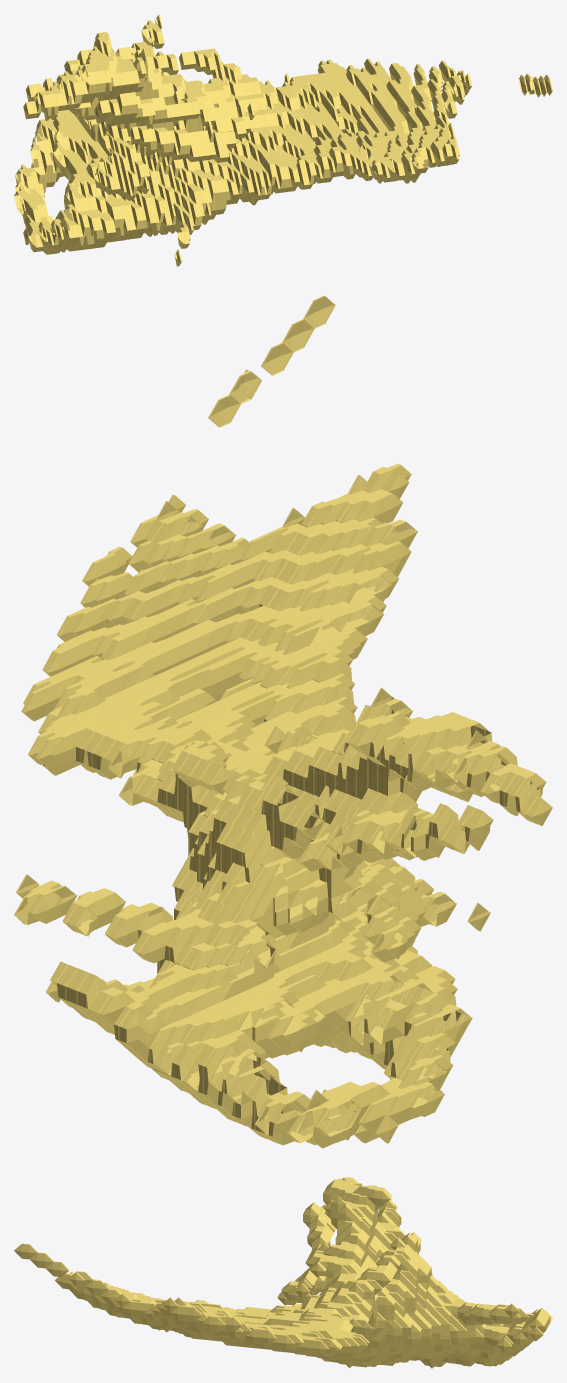
The model's file is SVV_BWM-DL06.gltf.
3 views of the same model, one above another, from view 1: azimuth 30°, elevation 25°; view 2: azimuth 150°, elevation 25°; view 3: azimuth 270°, elevation 25° (orthographic). The views are drawn at different scales.
Visible parts, largest first — view 1: BWM-DL06; view 2: BWM-DL06; view 3: BWM-DL06.
Boxes of the visible parts, left/top/right/bottom form: BWM-DL06: left=14, top=14, right=552, bottom=266; BWM-DL06: left=14, top=295, right=552, bottom=1148; BWM-DL06: left=14, top=1177, right=552, bottom=1368.
Size of the model in its own units: 28196 by 21110 by 43825.
